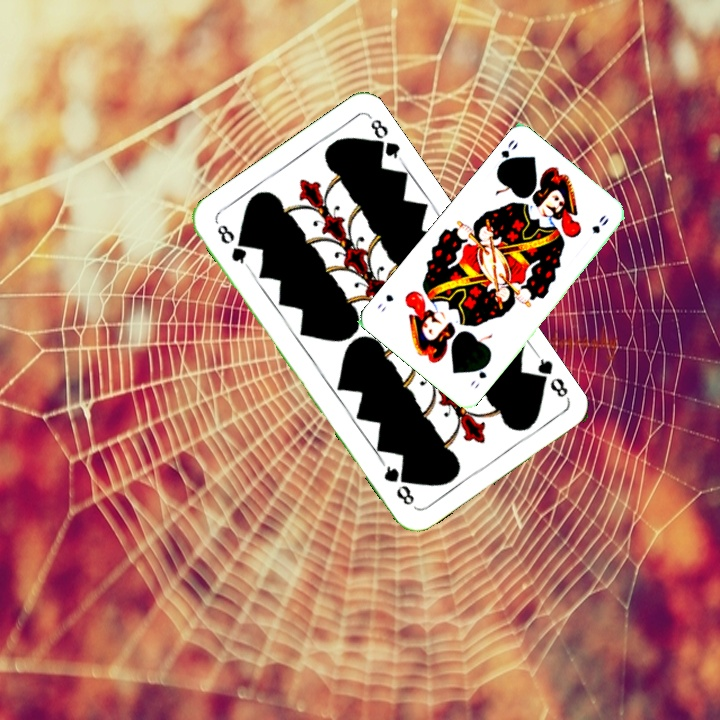G8: (528, 350, 571, 402), (213, 220, 252, 270)
GO: (493, 135, 521, 173), (466, 358, 492, 391)
